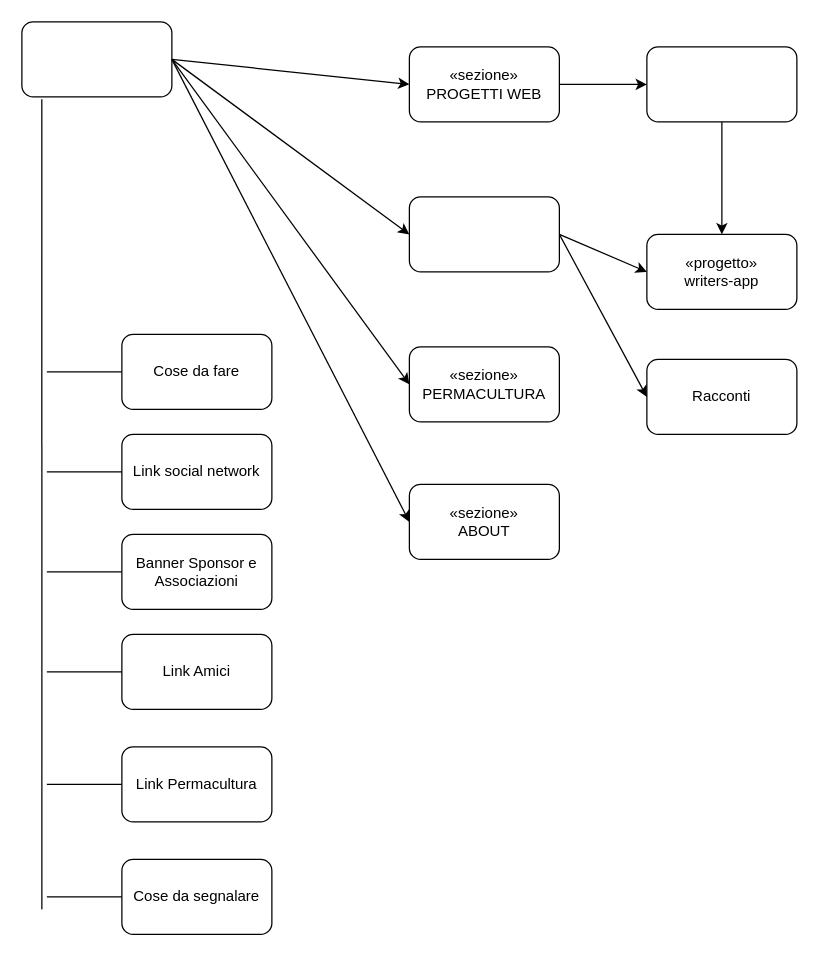
Some shapes in this 819 by 956 pixel diagram are drawn without their labels. The shapes that lost their labels are listed below. From the top down, each one's box as (x1, y1, x2, y2) in pixels, then its label:
(21, 21, 172, 97): HOME
(646, 46, 797, 122): Repository GitHub
(408, 196, 559, 272): «sezione» PROGETTI SCRITTURA
